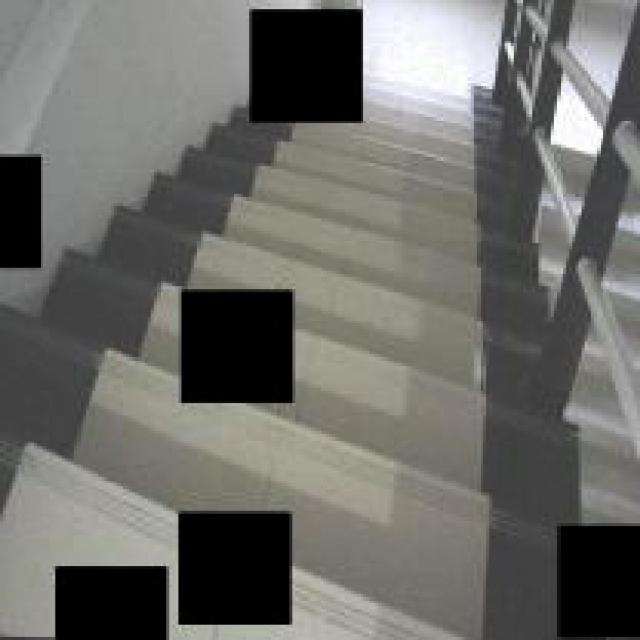downstair: (315, 136, 552, 640)
